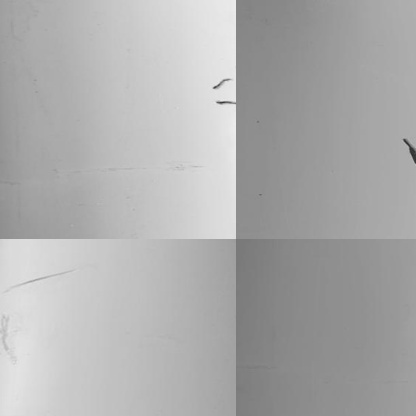fengxi: (207, 73, 234, 90), (401, 137, 416, 166), (215, 94, 240, 107)
